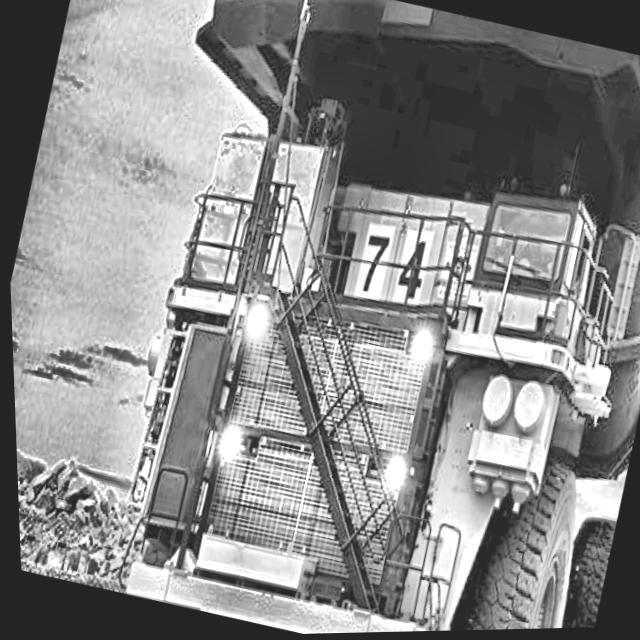dump_truck: (52, 0, 640, 639)
